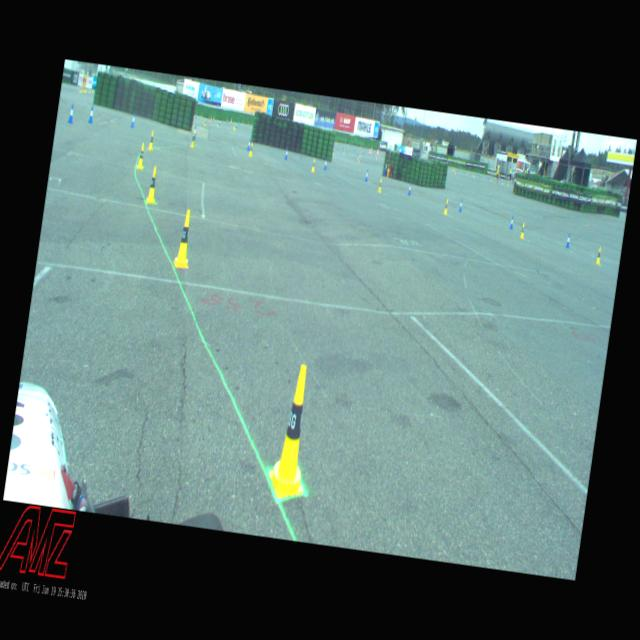blue_cone: (88, 105, 95, 124), (68, 105, 74, 123), (130, 112, 136, 128), (566, 235, 571, 248), (323, 159, 328, 170), (408, 182, 412, 195), (459, 199, 463, 212), (193, 126, 197, 139), (510, 216, 514, 228), (285, 148, 289, 160), (247, 138, 251, 150), (364, 170, 368, 181), (384, 162, 387, 170)
large_orange_cone: (369, 148, 371, 155)
yellow_cone: (267, 362, 320, 500), (173, 208, 196, 268), (146, 166, 160, 203), (137, 143, 146, 169), (148, 130, 156, 151), (596, 247, 602, 264), (520, 223, 526, 240), (191, 131, 196, 147), (444, 200, 449, 214), (312, 158, 316, 172), (378, 178, 382, 192), (250, 142, 253, 156), (204, 120, 207, 126), (217, 120, 219, 128), (388, 164, 390, 171), (80, 86, 82, 93), (82, 85, 84, 92), (84, 85, 86, 92), (92, 87, 94, 93), (86, 86, 88, 92), (90, 87, 92, 93)
